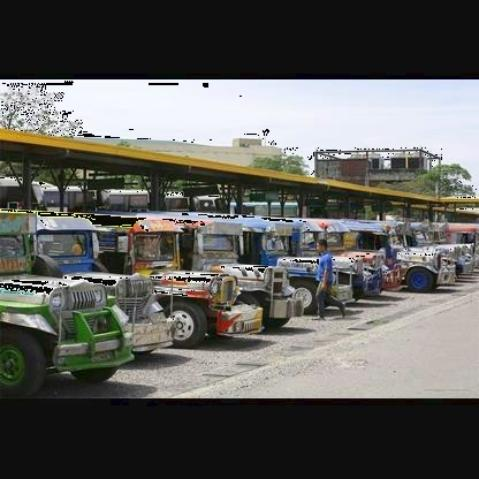jeepney: (95, 217, 293, 340), (0, 207, 117, 390), (250, 216, 346, 314), (293, 214, 387, 300), (388, 221, 462, 288)
